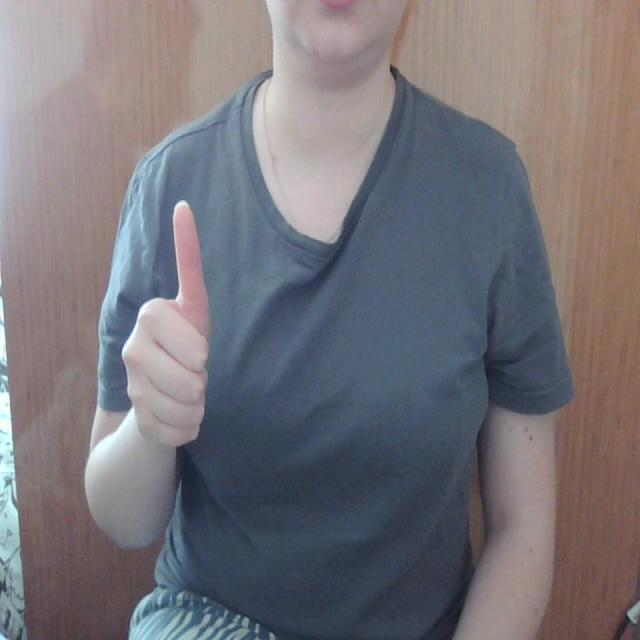Tamam: (119, 196, 216, 458)
